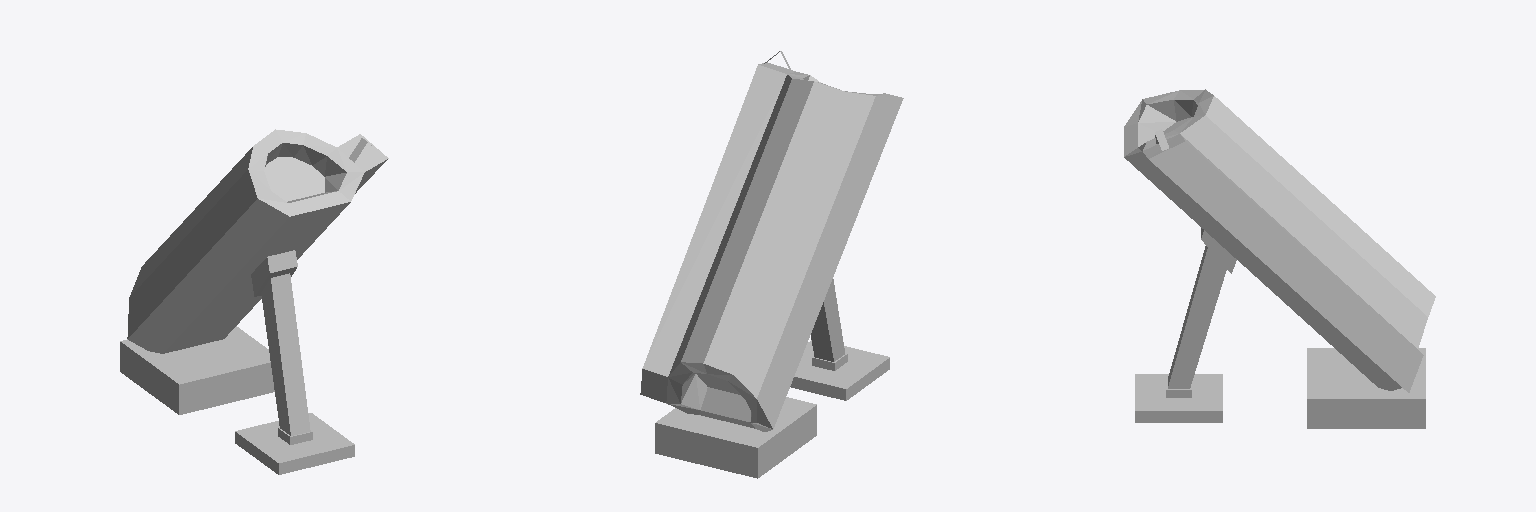
Rendered from developer_normal.obj.
3 views of the same model, side by side, from view 1: azimuth 30°, elevation 25°; view 2: azimuth 150°, elevation 25°; view 3: azimuth 270°, elevation 25° (orthographic).
Parts seen in each view (by area): view 1: develop; view 2: develop; view 3: develop.
Boxes of the visible parts, x1,y1,x2,y2 form: develop: [120, 129, 388, 474]; develop: [640, 51, 903, 478]; develop: [1124, 89, 1435, 428].
Bounding box in the file's own units: 2.6 × 5.72 × 5.25.